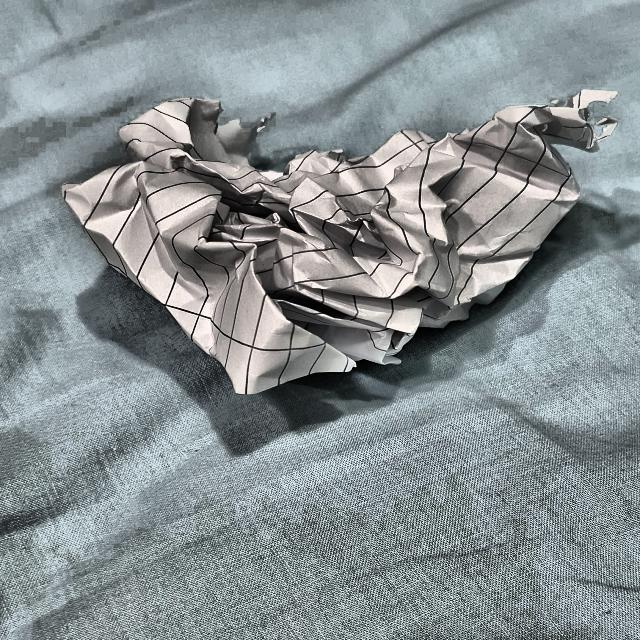paper: (84, 93, 607, 389)
